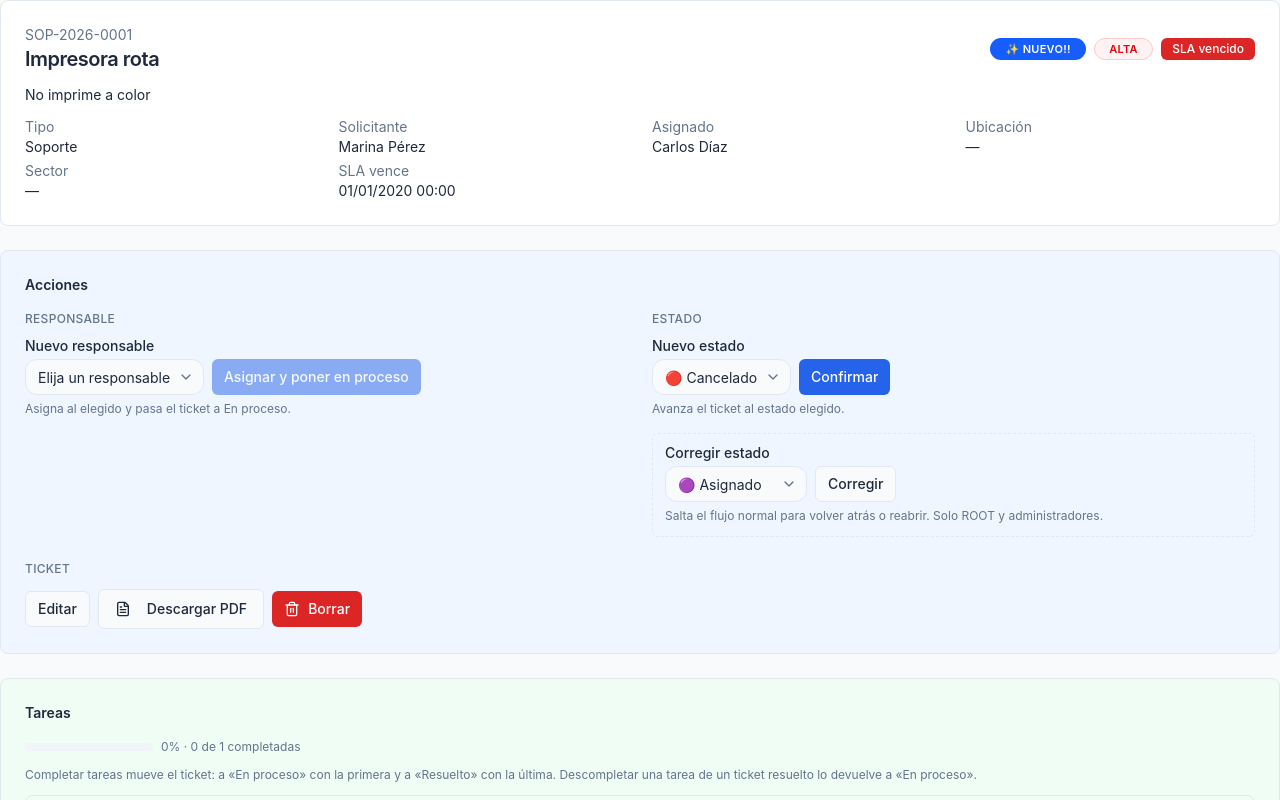
Test: TicketDetailView — gating de acciones por permiso › editar (modal) → click en «Editar» abre el modal precargado y guardar dispara PATCH /tickets/:id
Expected: the heading "Impresora rota" is shown, top-left (25, 45), bottom-right (159, 73)
Expected: the field labelled "Título" is not shown
Click the button "Editar" at [57, 609], box top-left (25, 591), bottom-right (90, 627)
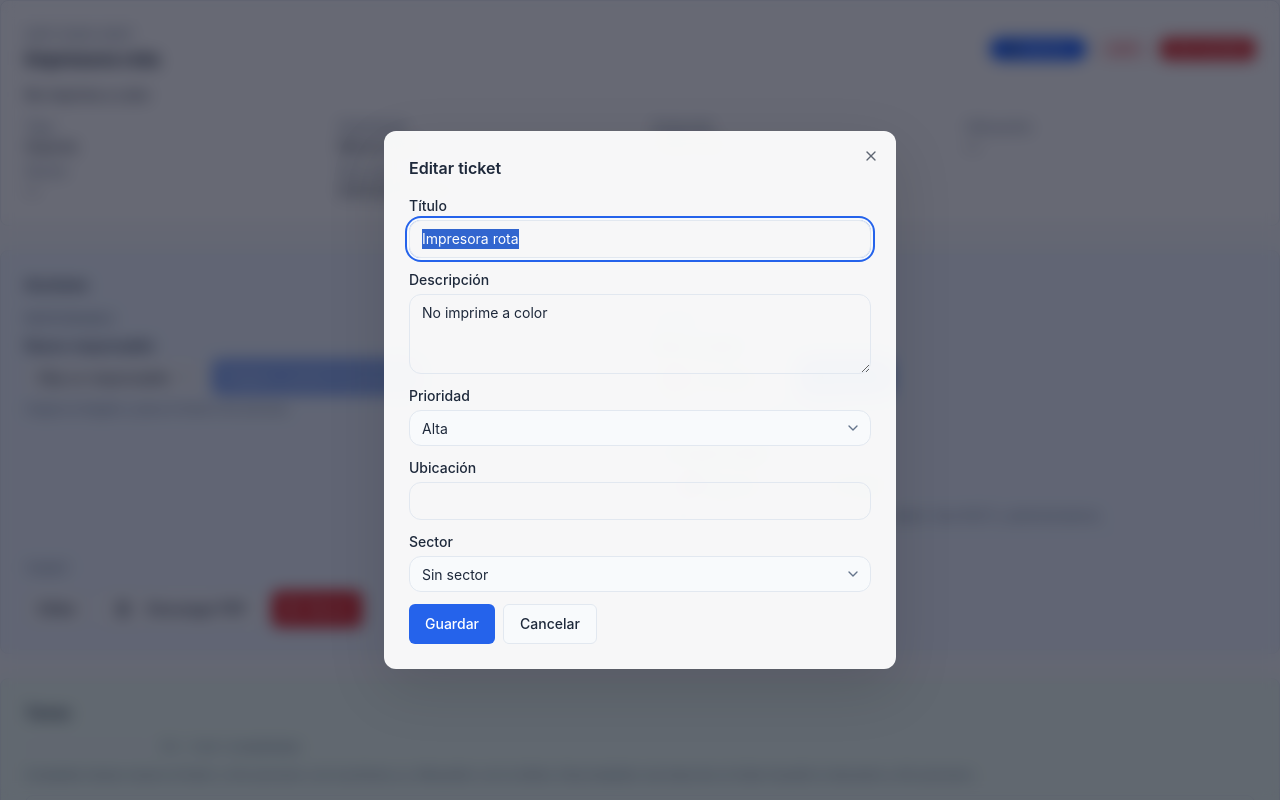
Result: the field labelled "Título" holds "Impresora rota"
Replace the text in the field labelled "Título" with "Impresora arreglada" at [640, 239], box top-left (409, 220), bottom-right (871, 258)
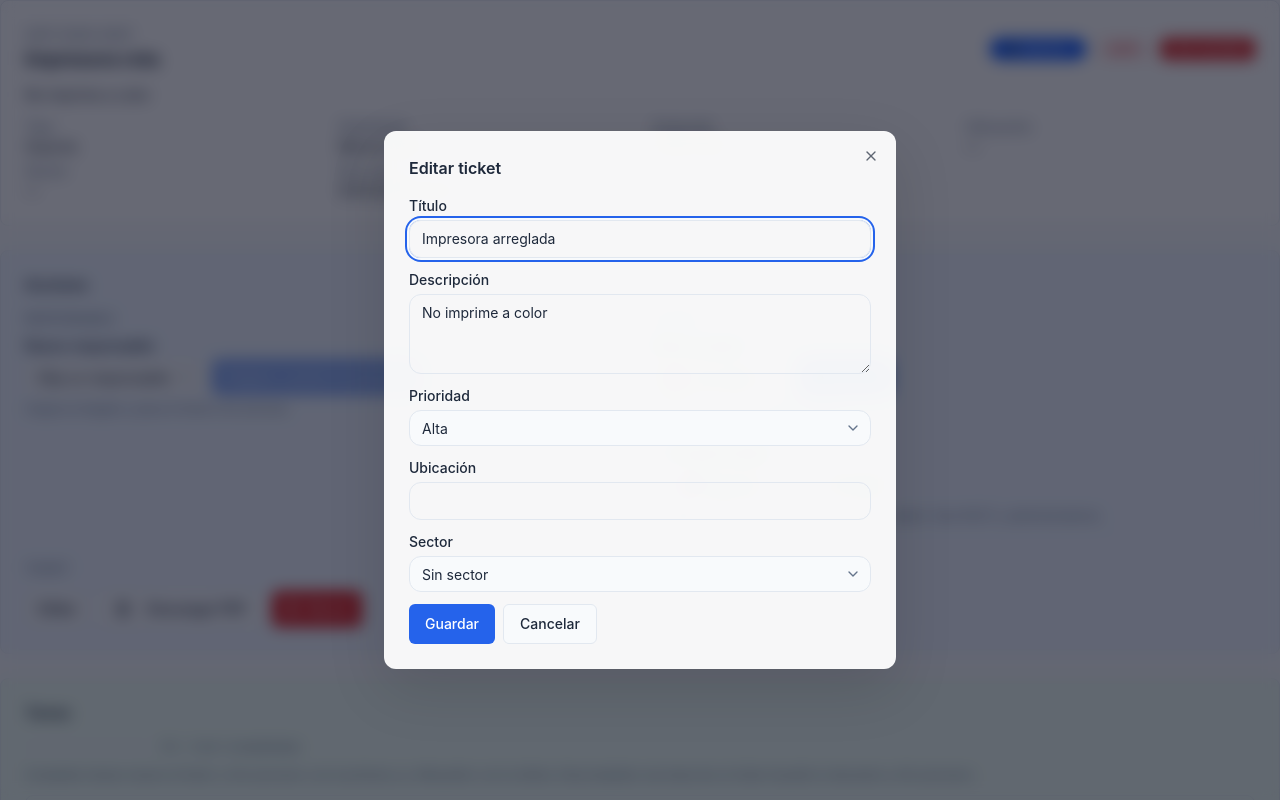
Click the button "Guardar" at [452, 624], box top-left (409, 604), bottom-right (495, 644)
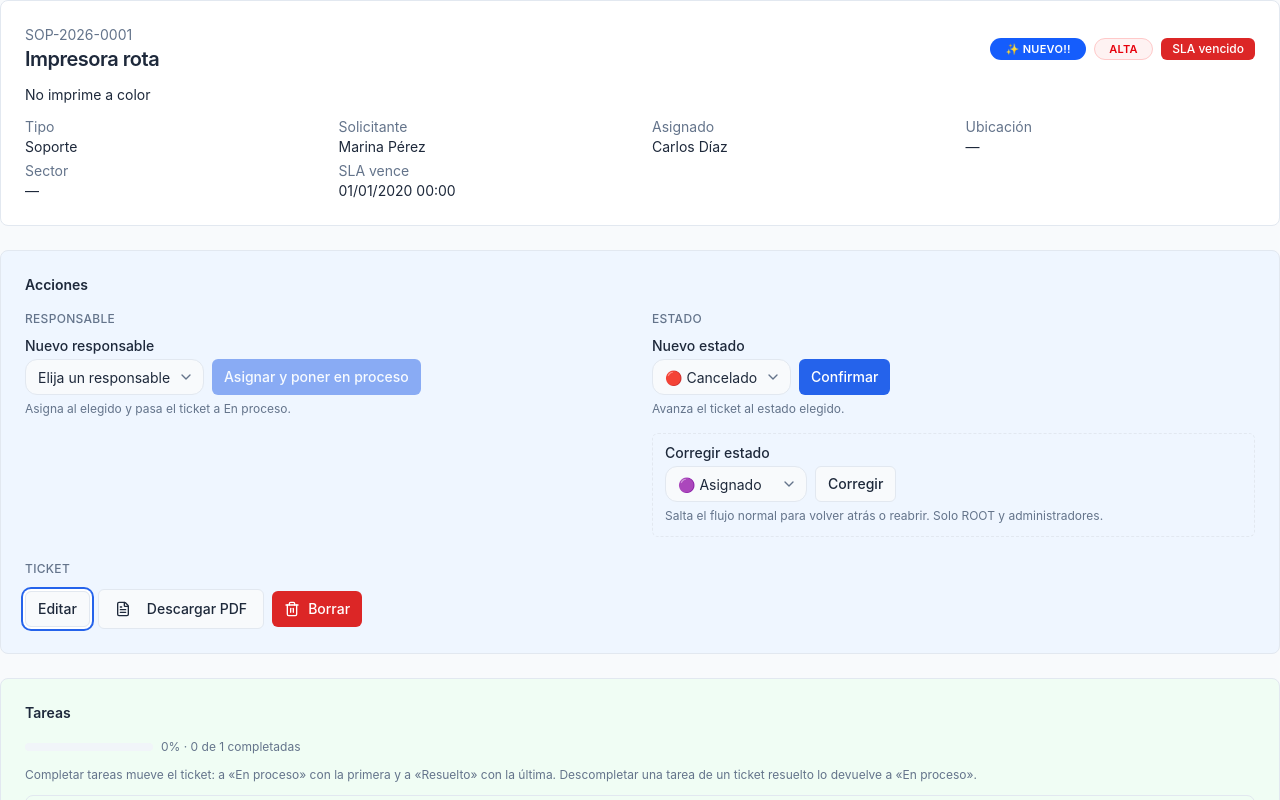
Result: the label labelled "Título" is gone
